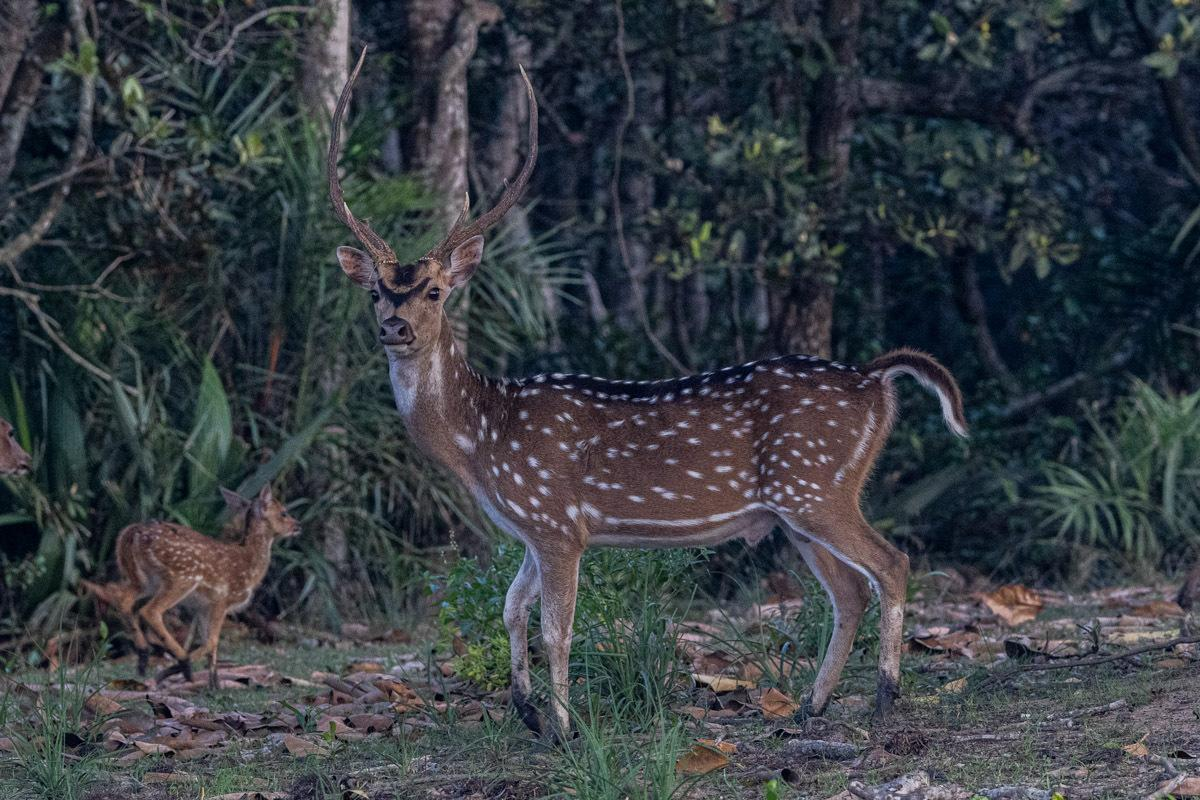Deer: (326, 51, 966, 735), (116, 485, 298, 679)
